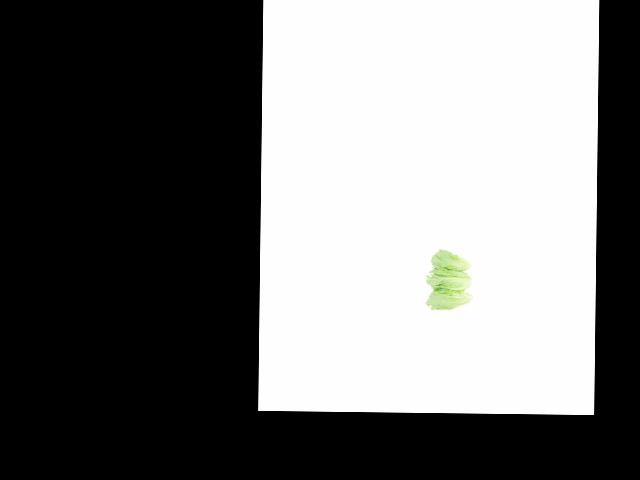lettuce: (429, 249, 482, 274)
